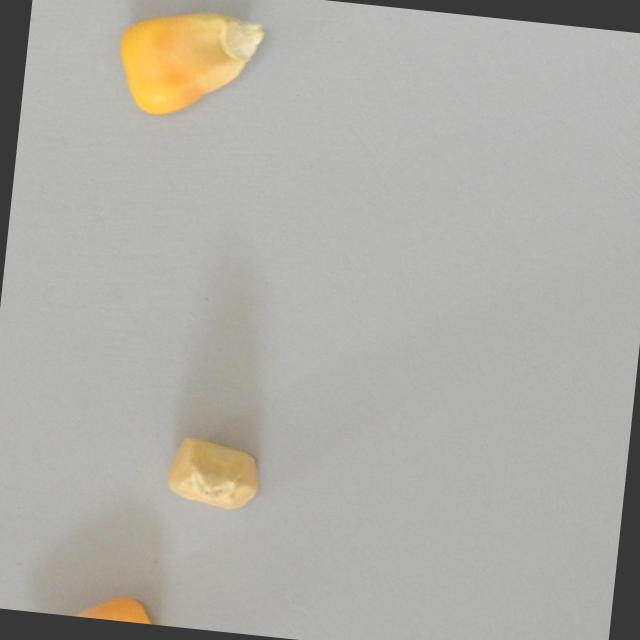entero: (109, 0, 267, 126), (159, 428, 266, 518), (19, 583, 165, 625)
